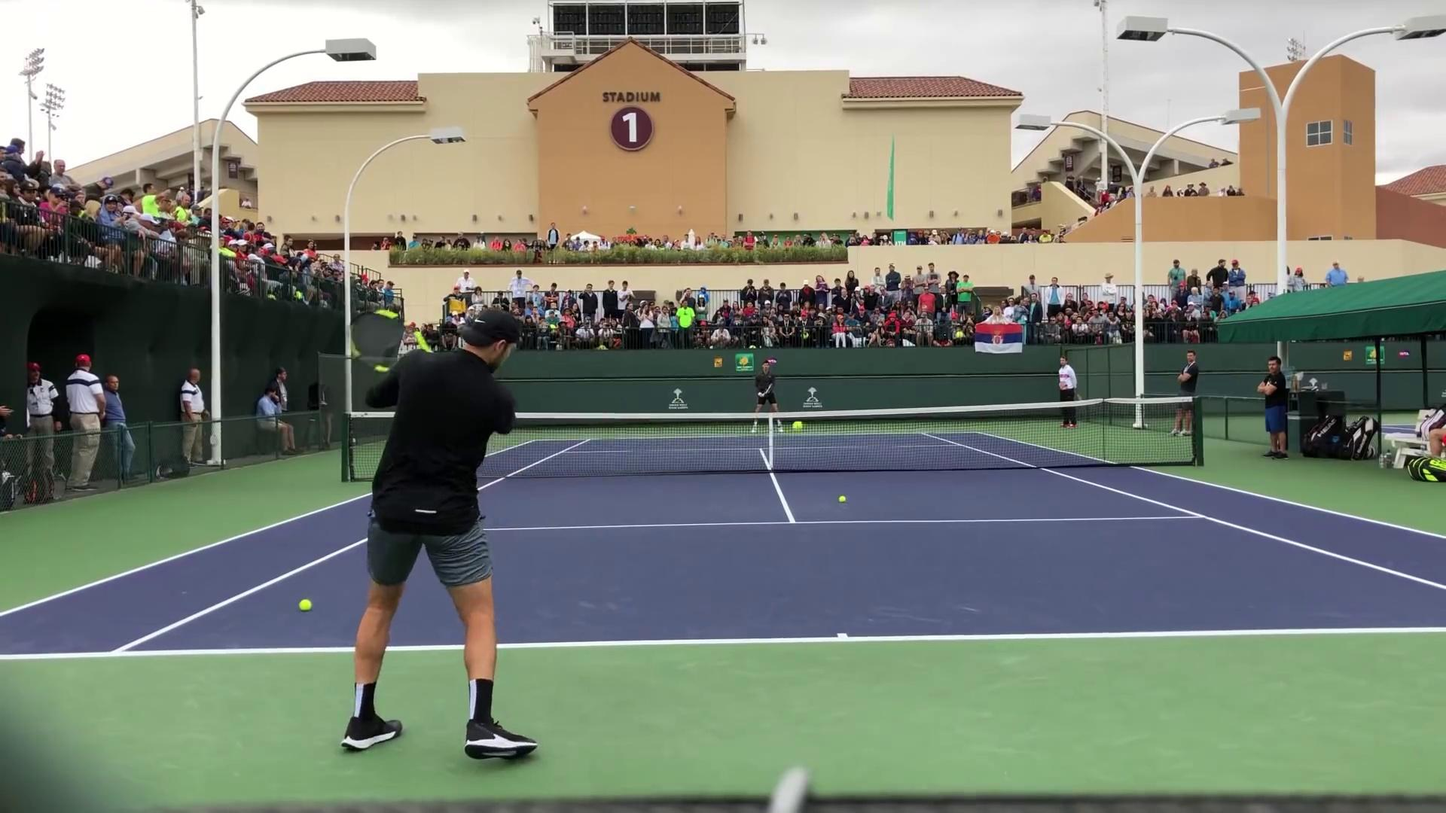ball: (793, 416, 808, 430), (297, 598, 312, 612), (838, 494, 847, 502)
